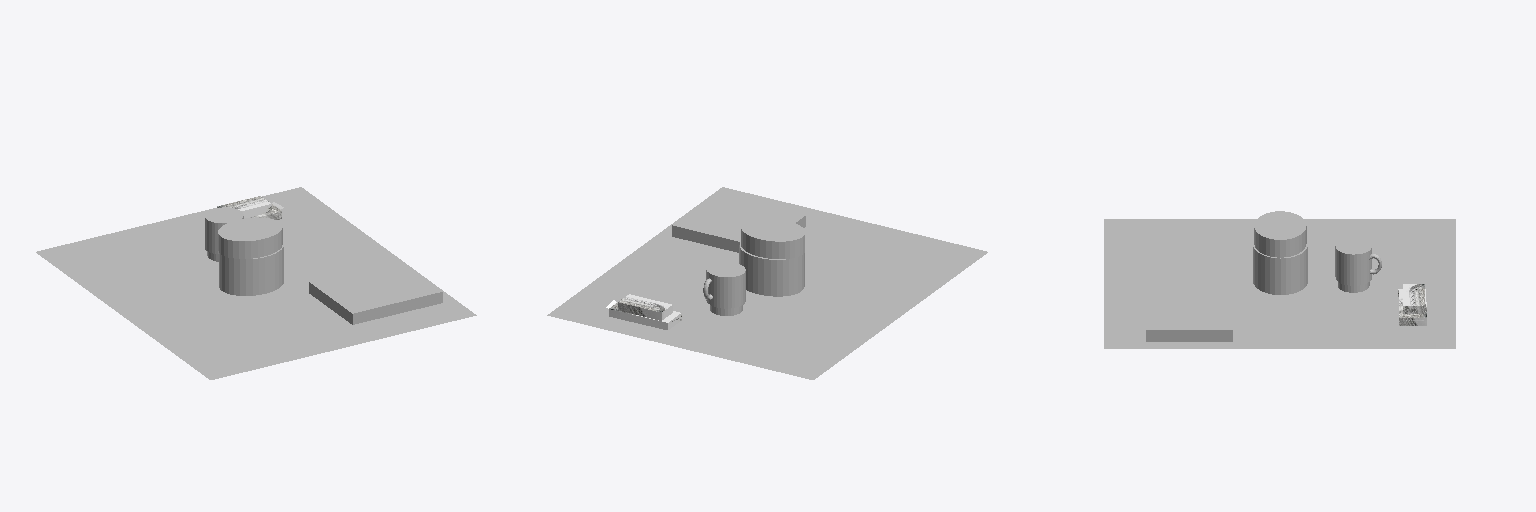
The picture shows the model from 3 angles: view 1: azimuth 30°, elevation 25°; view 2: azimuth 150°, elevation 25°; view 3: azimuth 270°, elevation 25°; orthographic projection.
Parts seen in each view (by area): view 1: Plane, Cube_Cube.001, Cylinder, Cylinder.001, Cylinder.003, Cube.002_Cube.003; view 2: Plane, Cube_Cube.001, Cylinder, Cylinder.001, Cylinder.003, Cube.002_Cube.003, Cube.001_Cube.002; view 3: Plane, Cube_Cube.001, Cylinder.001, Cylinder, Cylinder.003, Cube.002_Cube.003.
Part boxes in pixels (left/top/right/bottom): Plane: left=36, top=187, right=476, bottom=379; Cube_Cube.001: left=309, top=260, right=442, bottom=324; Cylinder: left=219, top=243, right=283, bottom=295; Cylinder.001: left=218, top=217, right=282, bottom=258; Cylinder.003: left=205, top=207, right=243, bottom=253; Cube.002_Cube.003: left=217, top=196, right=271, bottom=217; Plane: left=547, top=187, right=987, bottom=379; Cube_Cube.001: left=672, top=193, right=805, bottom=252; Cylinder: left=739, top=242, right=804, bottom=296; Cylinder.001: left=741, top=218, right=804, bottom=258; Cylinder.003: left=706, top=261, right=745, bottom=308; Cube.002_Cube.003: left=618, top=294, right=672, bottom=320; Cube.001_Cube.002: left=609, top=299, right=681, bottom=329; Plane: left=1104, top=219, right=1455, bottom=348; Cube_Cube.001: left=1146, top=286, right=1232, bottom=341; Cylinder.001: left=1254, top=211, right=1306, bottom=257; Cylinder: left=1253, top=241, right=1307, bottom=294; Cylinder.003: left=1335, top=238, right=1371, bottom=285; Cube.002_Cube.003: left=1403, top=284, right=1424, bottom=313.
Size of the model in its own units: 9.03 by 1.8 by 10.31.
12 materials, 1 textured.